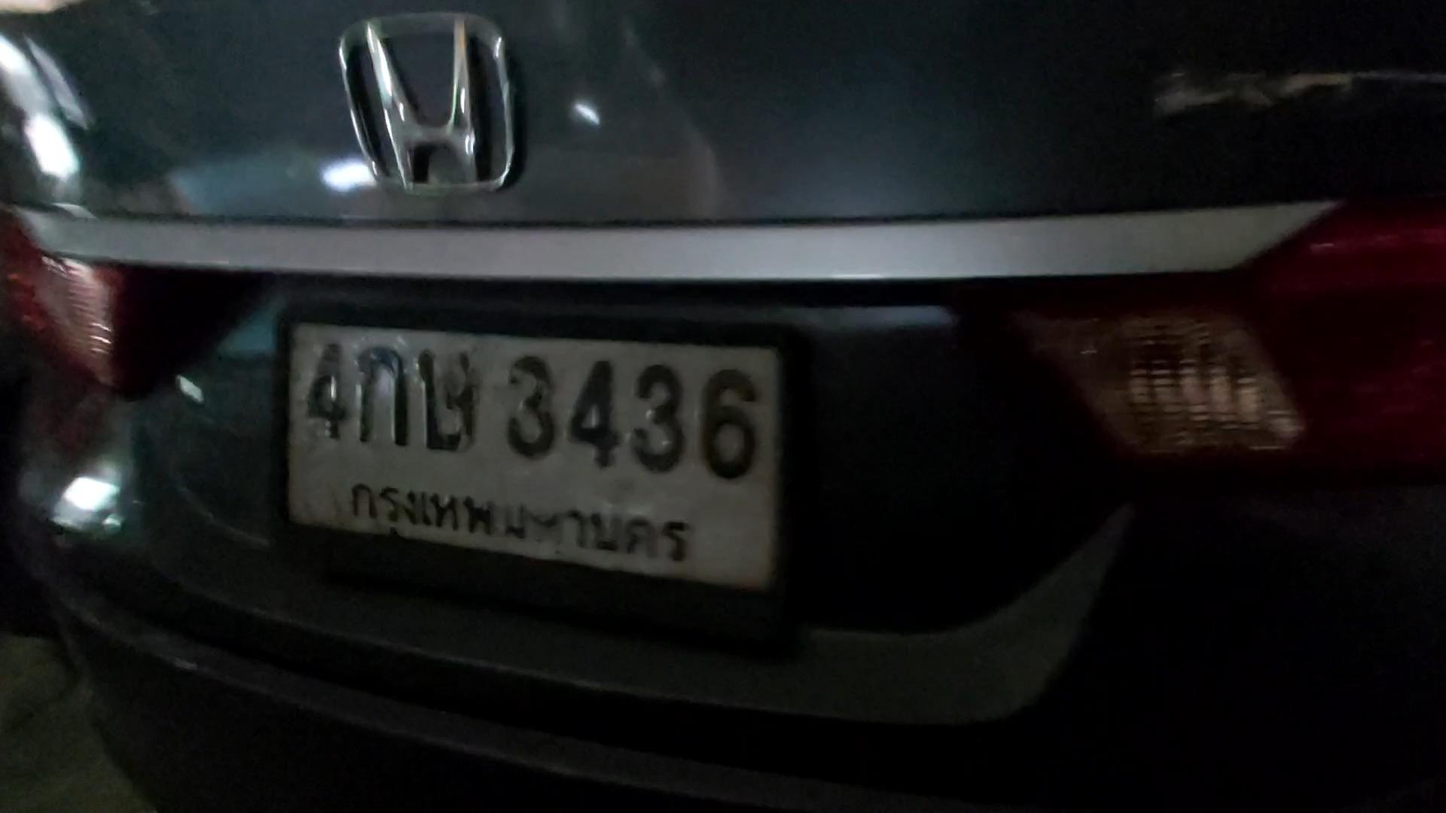license-plate: (285, 322, 792, 604)
